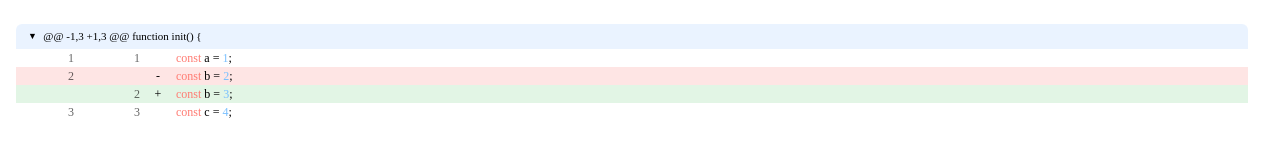
Test: shows "No results" when nothing matches
The width and height of the screenshot is (1265, 160).
Expected: the button "▼ @@ -1,3 +1,3 @@ function init() {" is shown, top-left (16, 24), bottom-right (1248, 49)
Type keys "{Meta>}f{/Meta}"
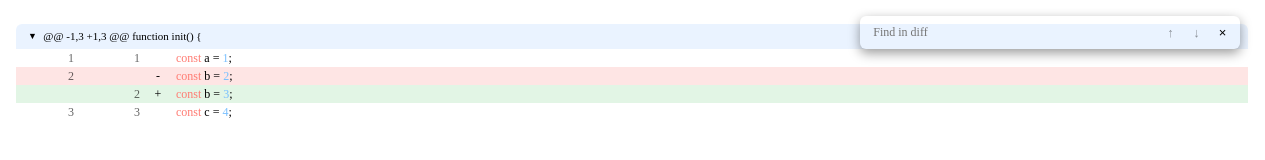
In the field labelled "Find in diff": (973, 32) top-left (867, 21), bottom-right (1080, 44), type "zzz"
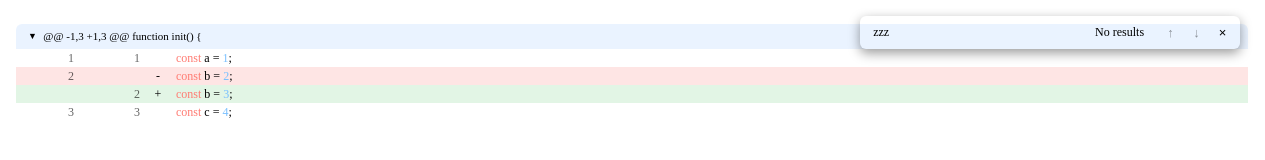
Result: the button named "Next match" is disabled at top-left (1186, 21), bottom-right (1208, 43)
Result: the text "No results" is shown at top-left (1095, 25), bottom-right (1144, 39)
